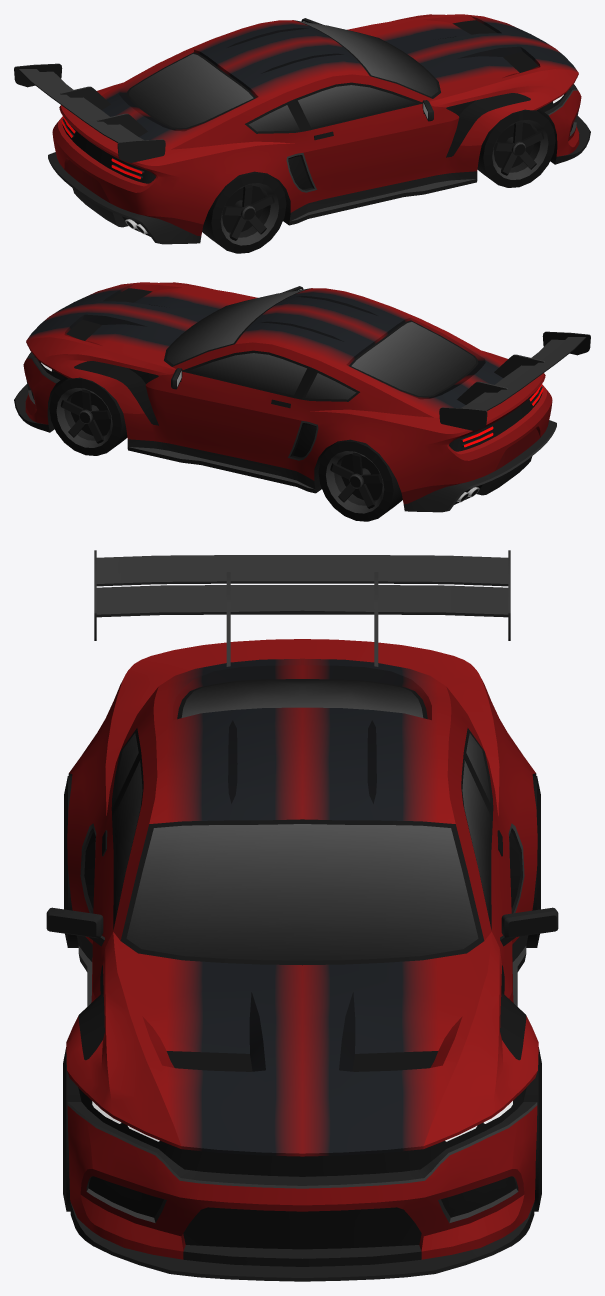
Rendered from RaceCar_039.glb.
3 renders of one model, top to bottom at view 1: azimuth 30°, elevation 25°; view 2: azimuth 150°, elevation 25°; view 3: azimuth 270°, elevation 25°, orthographic. The views are drawn at different scales.
Visible parts, largest first — view 1: RaceCar_039, wheel_3_RaceCar_039_Wheel_2R, wheel_1_RaceCar_039_Wheel_1R; view 2: RaceCar_039, wheel_2_RaceCar_039_Wheel_2L, wheel_0_RaceCar_039_Wheel_1L; view 3: RaceCar_039, wheel_1_RaceCar_039_Wheel_1R, wheel_0_RaceCar_039_Wheel_1L.
Boxes of the visible parts, box(x1,y1,x2,y2) form: RaceCar_039: box(14, 14, 590, 244); wheel_3_RaceCar_039_Wheel_2R: box(202, 171, 286, 253); wheel_1_RaceCar_039_Wheel_1R: box(477, 109, 555, 187); RaceCar_039: box(14, 282, 590, 512); wheel_2_RaceCar_039_Wheel_2L: box(318, 439, 402, 521); wheel_0_RaceCar_039_Wheel_1L: box(49, 377, 127, 455); RaceCar_039: box(46, 550, 558, 1281); wheel_1_RaceCar_039_Wheel_1R: box(63, 1047, 81, 1211); wheel_0_RaceCar_039_Wheel_1L: box(523, 1047, 541, 1211).
Size of the model in its own units: 4.97 by 1.34 by 2.2.
2 materials, 2 textured.
